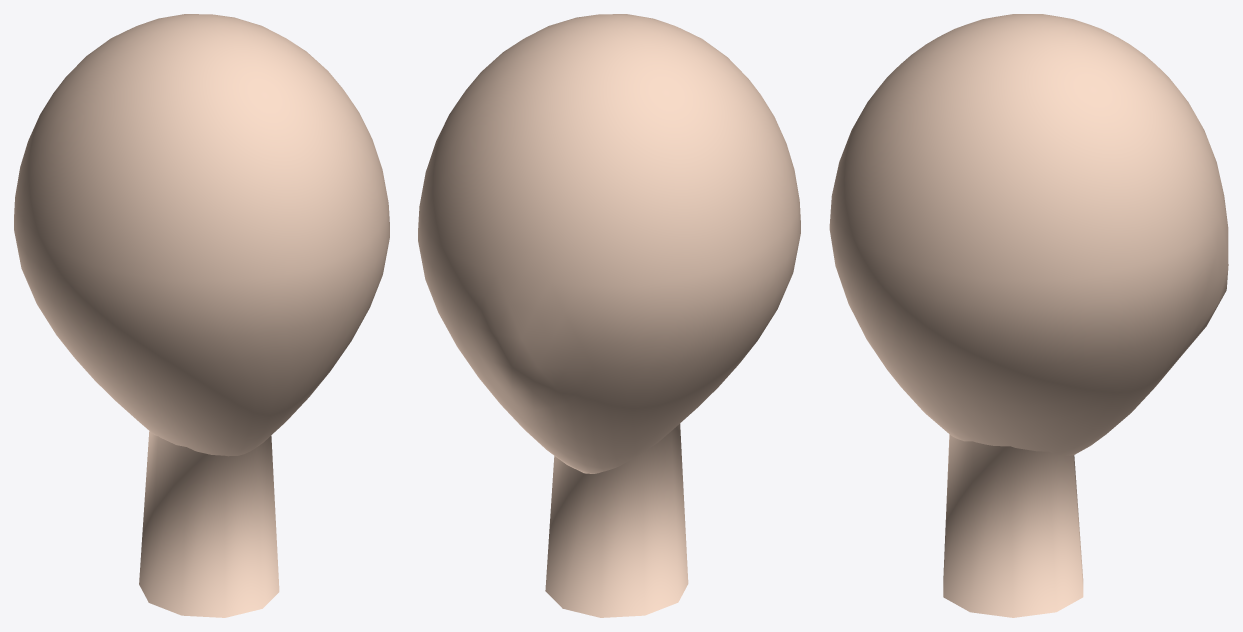
File: anime_head.glb
3 renders of one model, left to right at view 1: azimuth 30°, elevation 25°; view 2: azimuth 150°, elevation 25°; view 3: azimuth 270°, elevation 25°, orthographic.
Visible parts, largest first — view 1: head, neck; view 2: head, neck; view 3: head, neck.
Boxes of the visible parts, x1,y1,x2,y2 form: head: [14, 14, 389, 456]; neck: [139, 431, 279, 617]; head: [418, 14, 800, 473]; neck: [545, 423, 688, 617]; head: [829, 14, 1228, 455]; neck: [943, 434, 1083, 617].
Bounding box in the file's own units: 0.256 × 0.42 × 0.2714.
